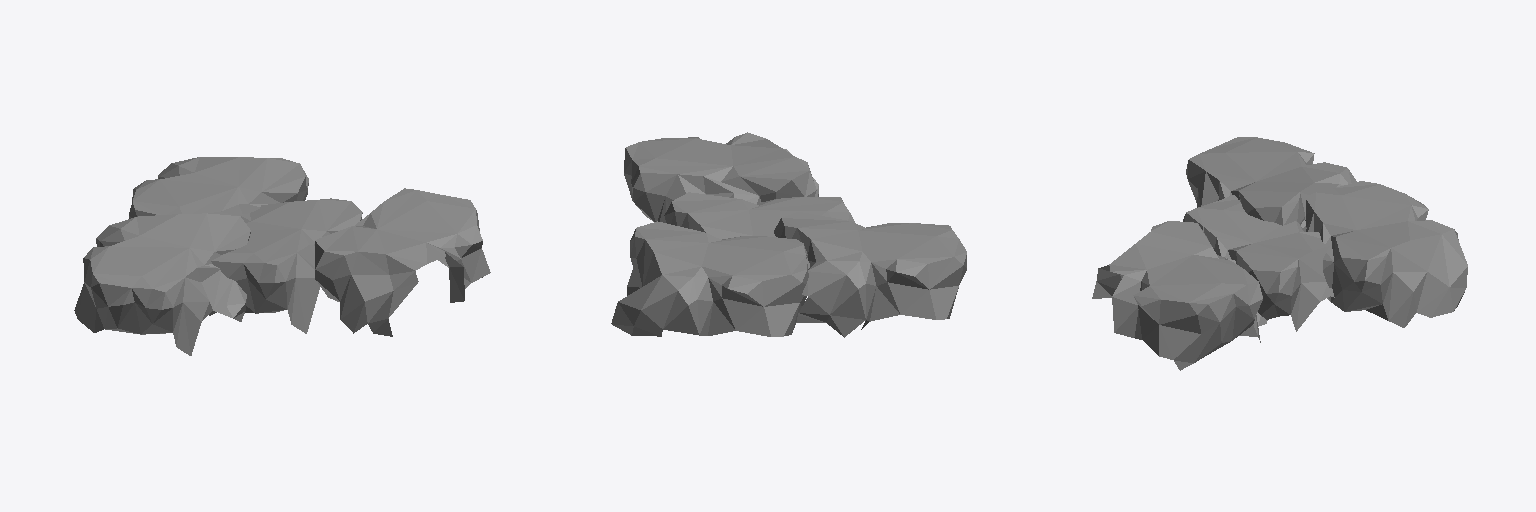
The model's file is RockFlatPile.obj.
3 views of the same model, side by side, from view 1: azimuth 30°, elevation 25°; view 2: azimuth 150°, elevation 25°; view 3: azimuth 270°, elevation 25° (orthographic).
Parts seen in each view (by area): view 1: SM_RockFlatPile; view 2: SM_RockFlatPile; view 3: SM_RockFlatPile.
Part boxes in pixels (left/top/right/bottom): SM_RockFlatPile: left=74, top=157, right=490, bottom=355; SM_RockFlatPile: left=611, top=132, right=966, bottom=337; SM_RockFlatPile: left=1092, top=137, right=1467, bottom=370.
Bounding box in the file's own units: 1353 × 322 × 1223.